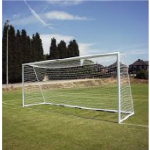goals: (21, 51, 137, 124)
